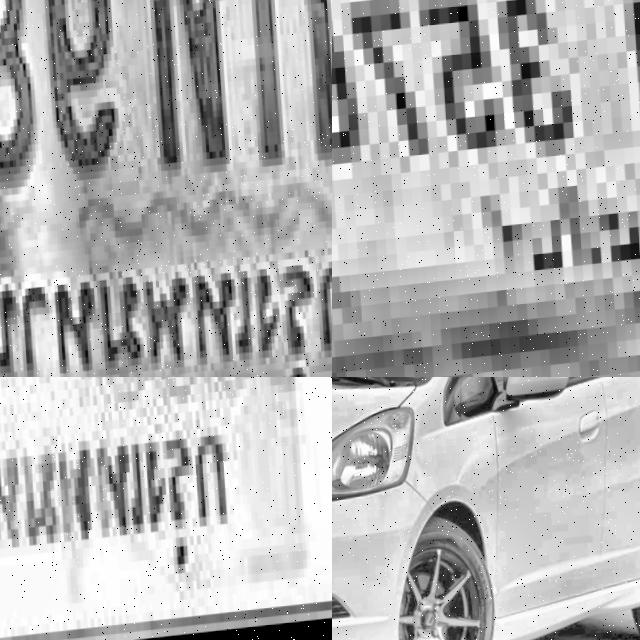license-plate: (0, 0, 332, 377), (332, 0, 640, 377), (0, 377, 332, 640)
